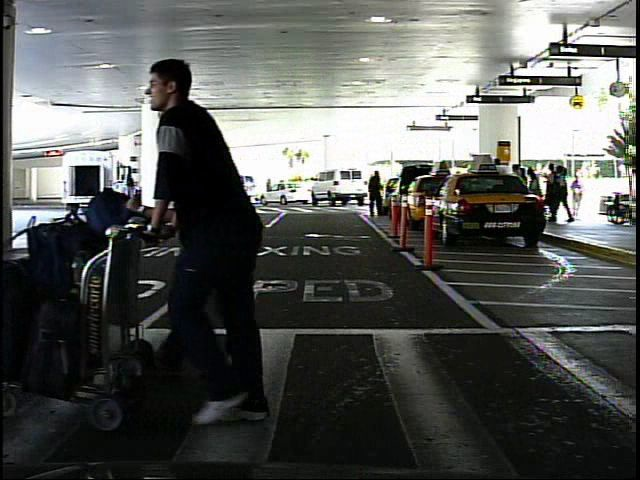person: (146, 44, 300, 423), (366, 168, 388, 223), (112, 170, 130, 212), (571, 172, 587, 219)
